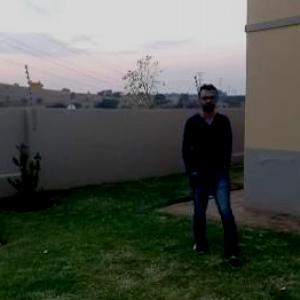follow: (181, 80, 238, 247)
